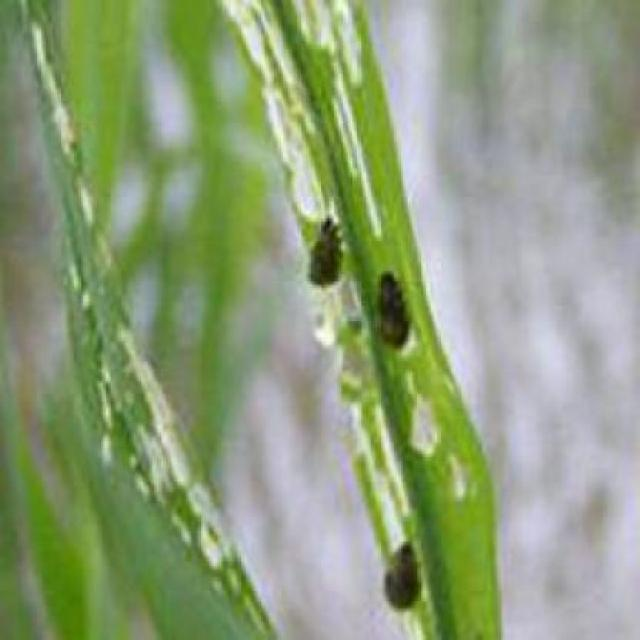rice-bug: (379, 532, 426, 617), (298, 206, 344, 289), (376, 264, 416, 350)
